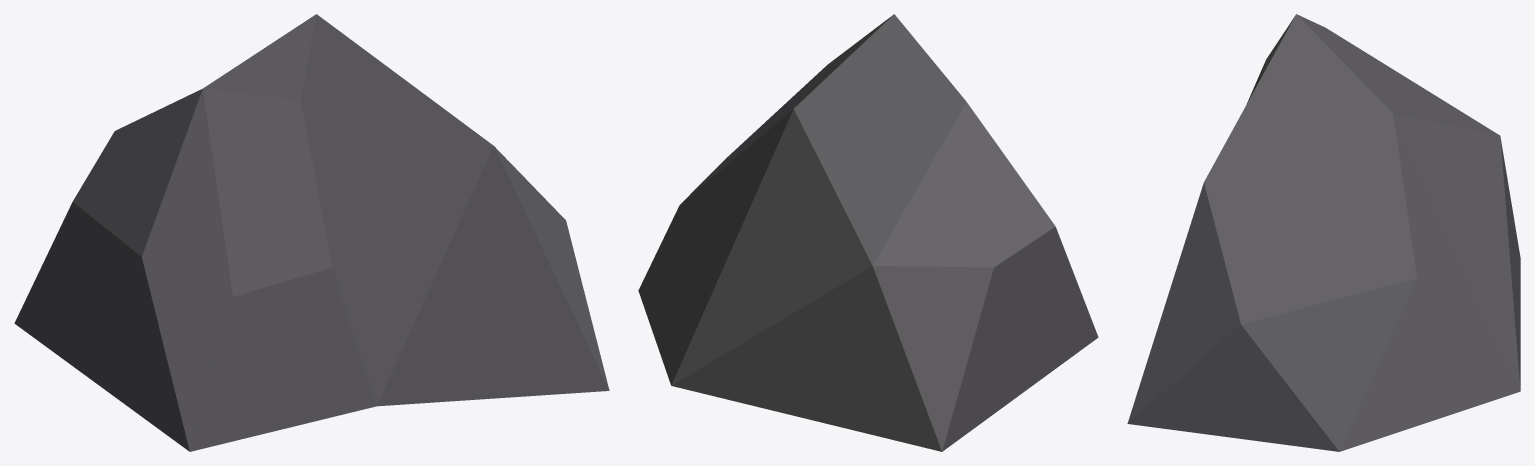
The model's file is mesh_rock_01.fbx.
3 views of the same model, side by side, from view 1: azimuth 30°, elevation 25°; view 2: azimuth 150°, elevation 25°; view 3: azimuth 270°, elevation 25° (orthographic). The views are drawn at different scales.
Parts seen in each view (by area): view 1: mesh_rock_01; view 2: mesh_rock_01; view 3: mesh_rock_01.
Boxes of the visible parts, <box> form: mesh_rock_01: <box>14,14,609,451</box>; mesh_rock_01: <box>638,14,1098,451</box>; mesh_rock_01: <box>1127,14,1520,451</box>.
Size of the model in its own units: 290 by 224 by 248.
